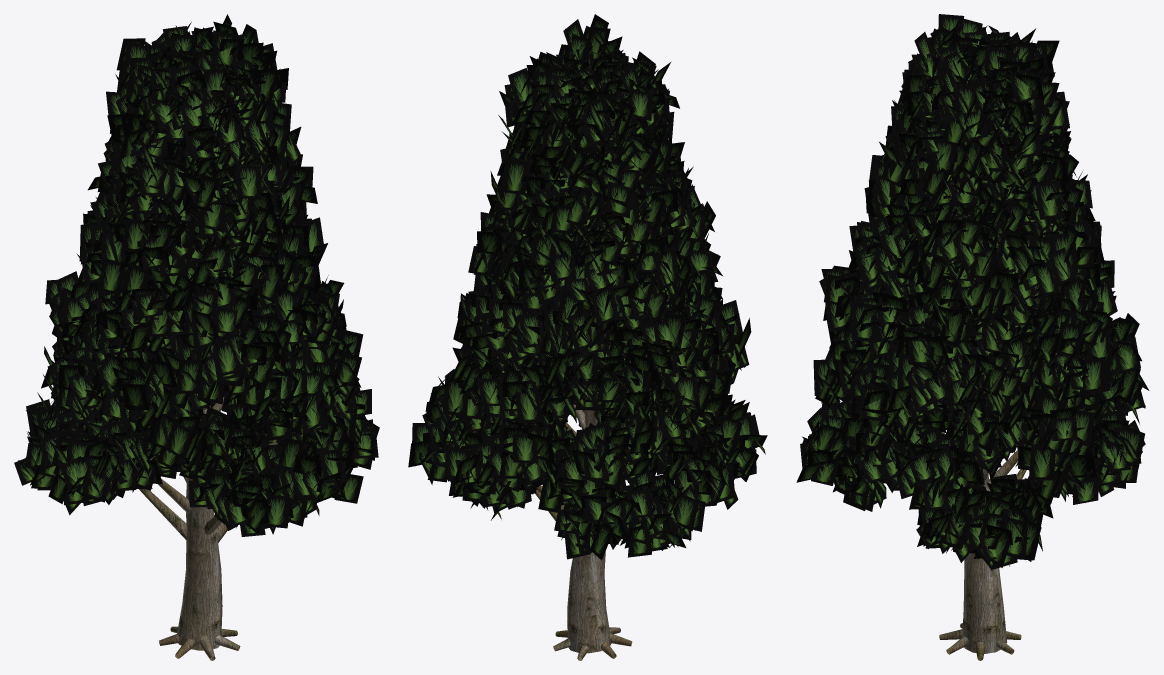
File: white-pine.glb
The picture shows the model from 3 angles, left to right: view 1: azimuth 30°, elevation 25°; view 2: azimuth 150°, elevation 25°; view 3: azimuth 270°, elevation 25°; orthographic projection. The views are drawn at different scales.
Visible parts, largest first — view 1: white-pine; view 2: white-pine; view 3: white-pine.
Part boxes in pixels (bbox=[...]): white-pine: bbox=[14, 14, 379, 660]; white-pine: bbox=[408, 14, 767, 660]; white-pine: bbox=[796, 14, 1149, 660].
Size of the model in its own units: 11.69 by 21.62 by 11.15.
2 materials, 2 textured.
